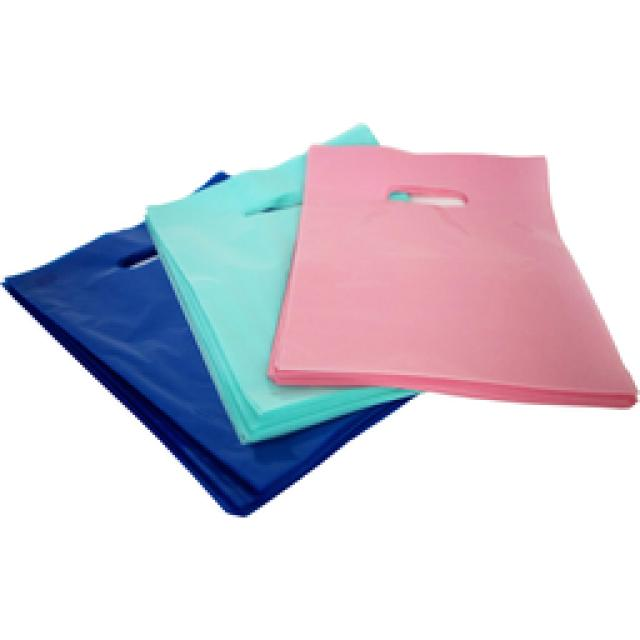plastic: (5, 128, 635, 512)
